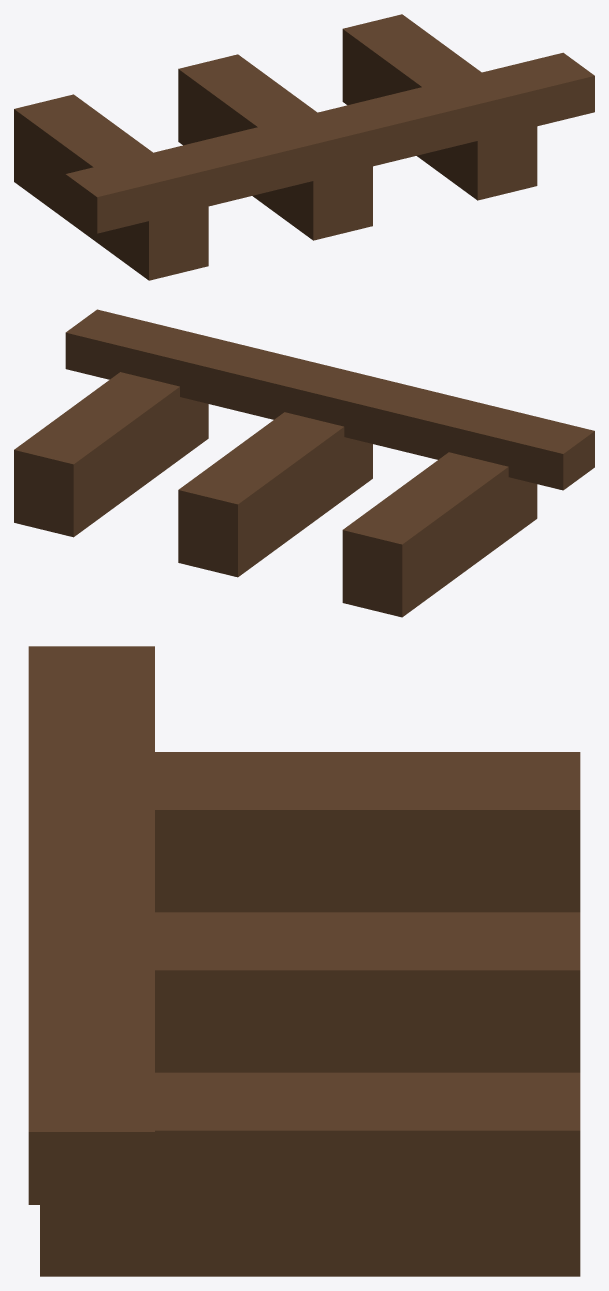
The model's file is JettyBeams.fbx.
The picture shows the model from 3 angles, top to bottom: view 1: azimuth 30°, elevation 25°; view 2: azimuth 150°, elevation 25°; view 3: azimuth 270°, elevation 25°; orthographic projection. The views are drawn at different scales.
Visible parts, largest first — view 1: Kit_JettyBeams; view 2: Kit_JettyBeams; view 3: Kit_JettyBeams.
Boxes of the visible parts, x1,y1,x2,y2 form: Kit_JettyBeams: [14, 14, 594, 280]; Kit_JettyBeams: [14, 309, 594, 617]; Kit_JettyBeams: [28, 646, 580, 1276].
Size of the model in its own units: 1 by 0.19 by 0.48.
